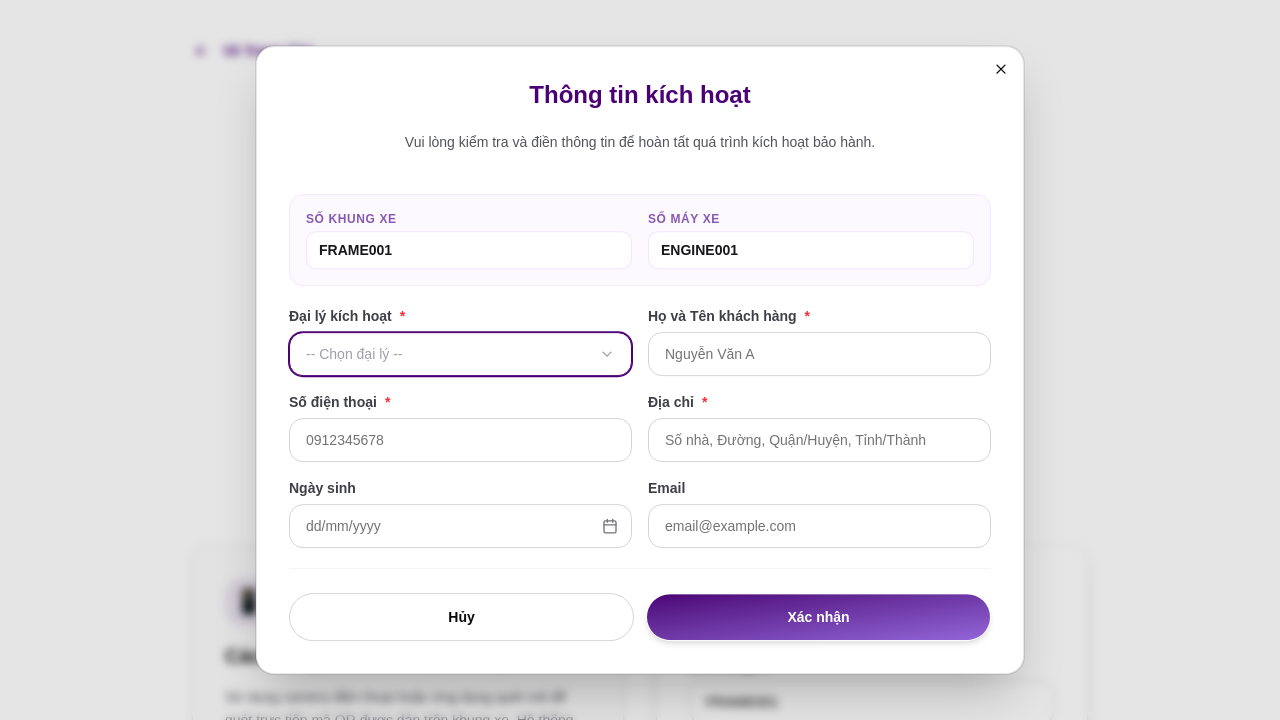
Test: Warranty page › activates warranty after confirmation
In the field labelled "Họ và Tên khách hàng *": (820, 354) x1=648 y1=332 x2=991 y2=376, type "Nguyen Van A"
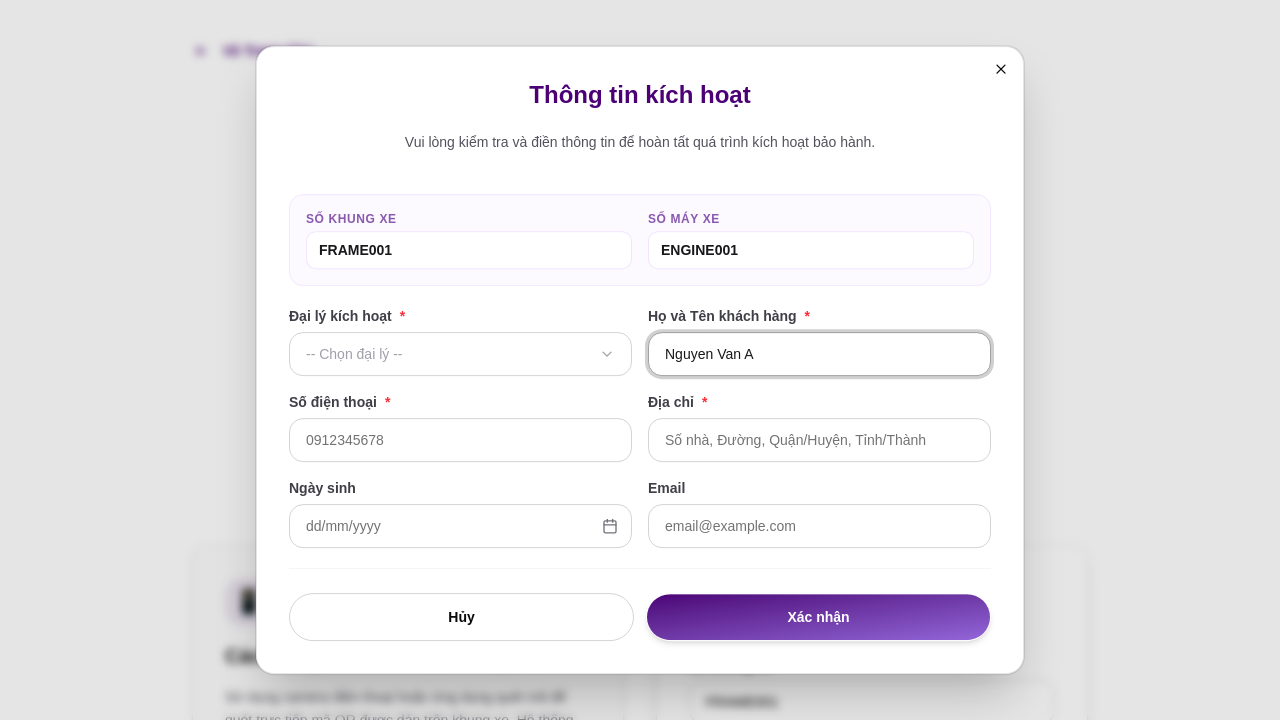
In the field labelled "Số điện thoại *": (460, 440) x1=289 y1=418 x2=632 y2=462, type "0987654321"
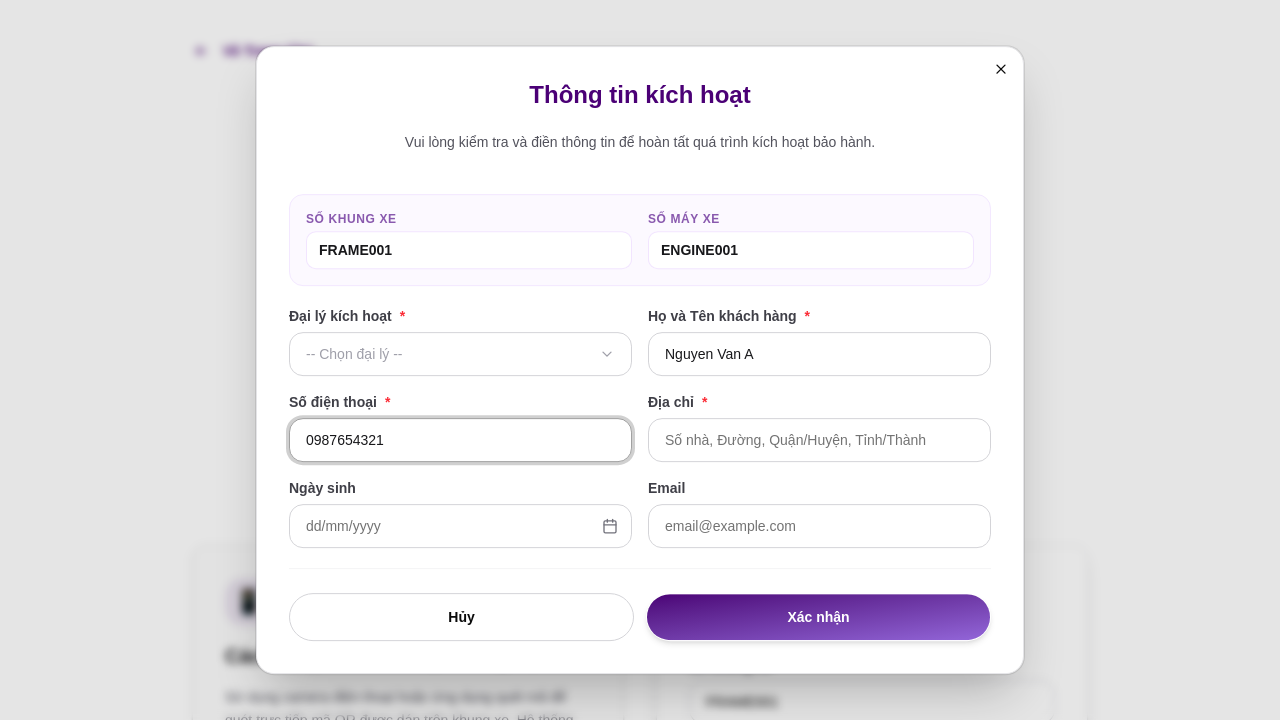
In the field labelled "Địa chỉ *": (820, 440) x1=648 y1=418 x2=991 y2=462, type "Hanoi"
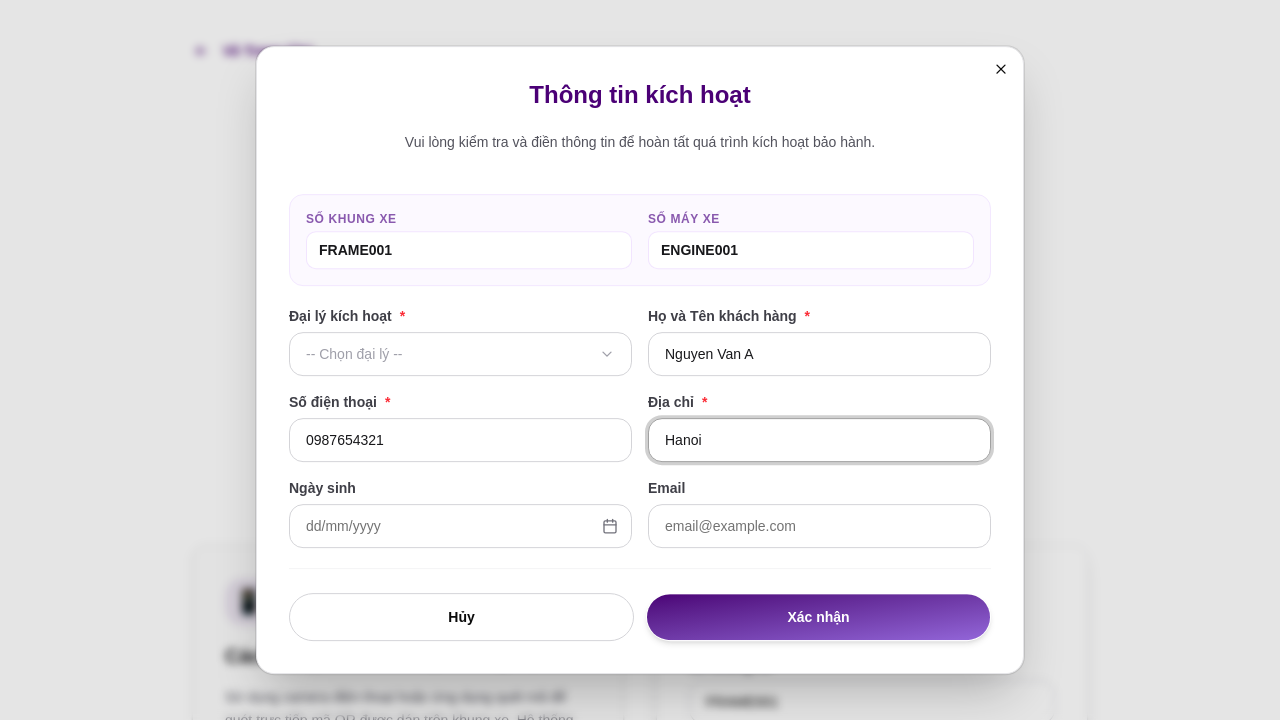
Click the dropdown named "Đại lý kích hoạt": (354, 354) x1=289 y1=332 x2=632 y2=376
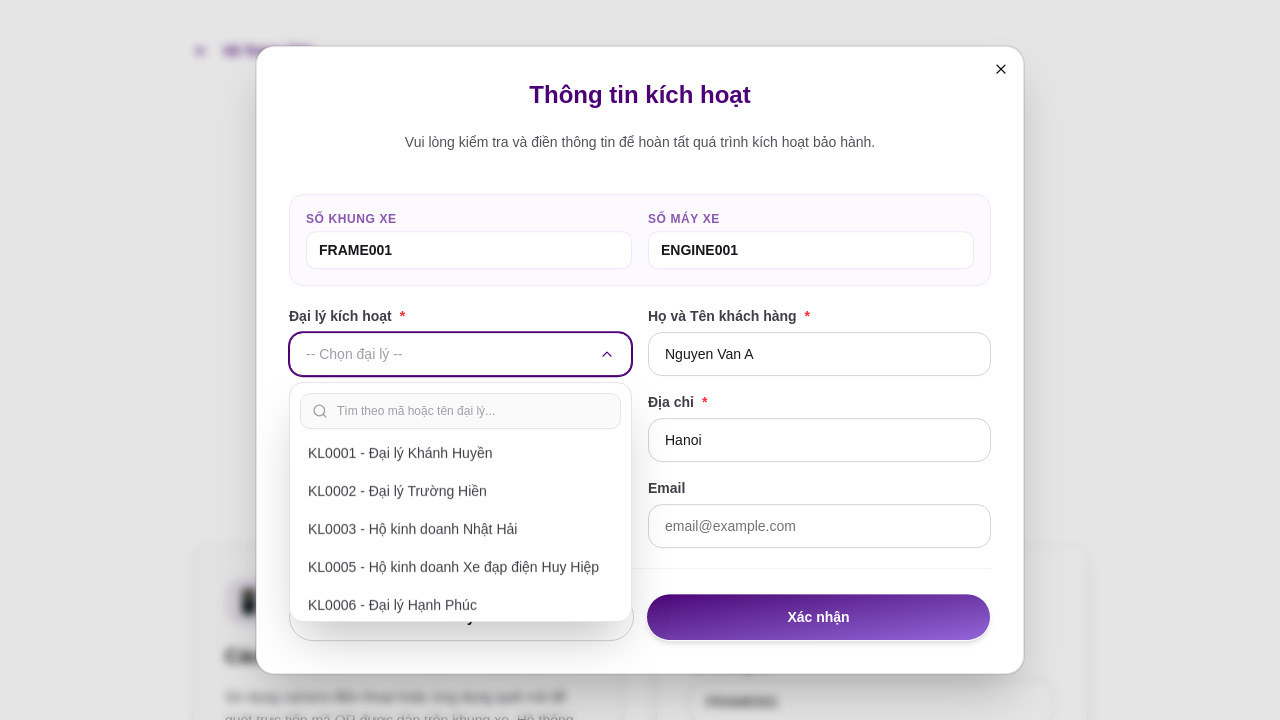
Click the option "KL0001 - Đại lý Khánh Huyền": (400, 453) x1=308 y1=445 x2=492 y2=461
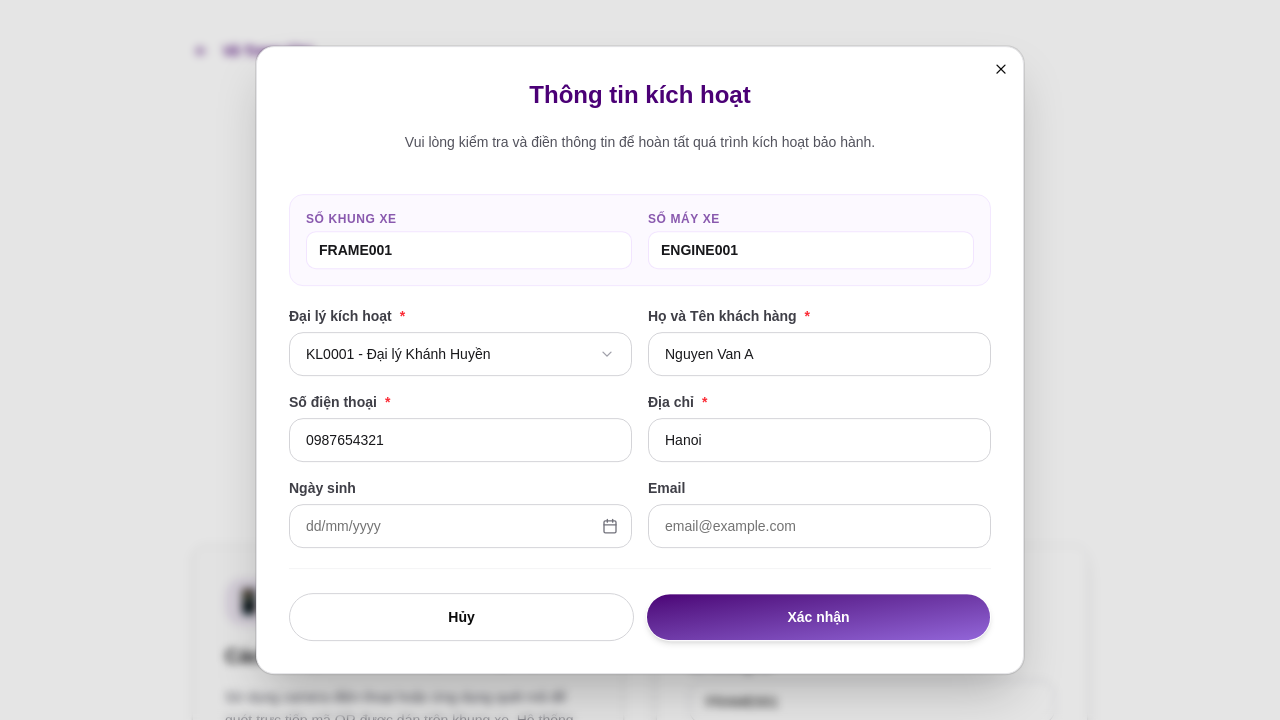
Submit the form named "Xác nhận", box x1=289 y1=194 x2=991 y2=641
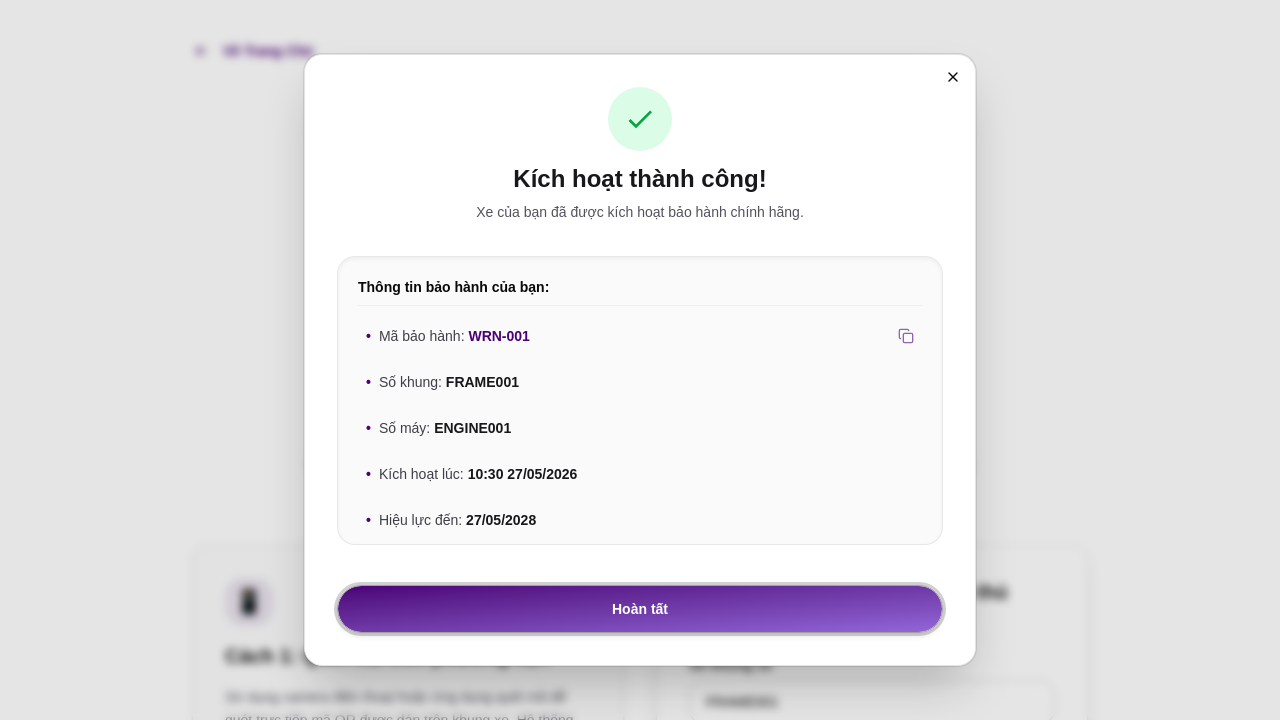
Result: the heading "Kích hoạt thành công!" is shown at x1=513 y1=165 x2=767 y2=192
